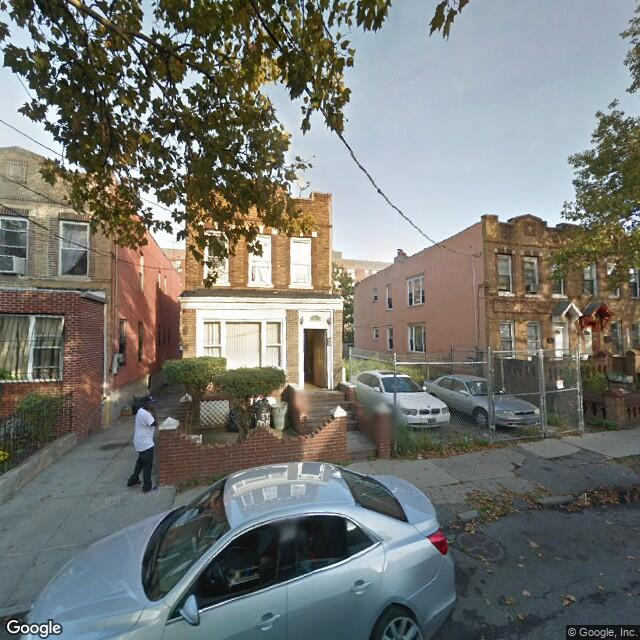litter: (451, 481, 640, 535)
